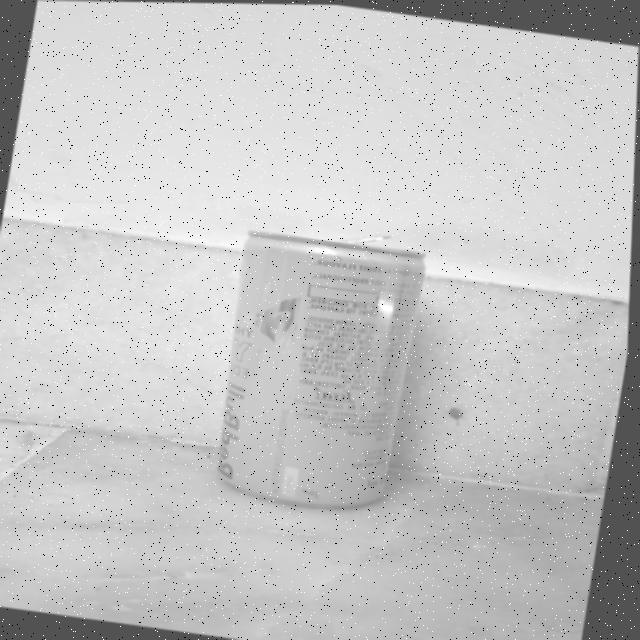Redbull Yellow Edition: (186, 214, 471, 525)
